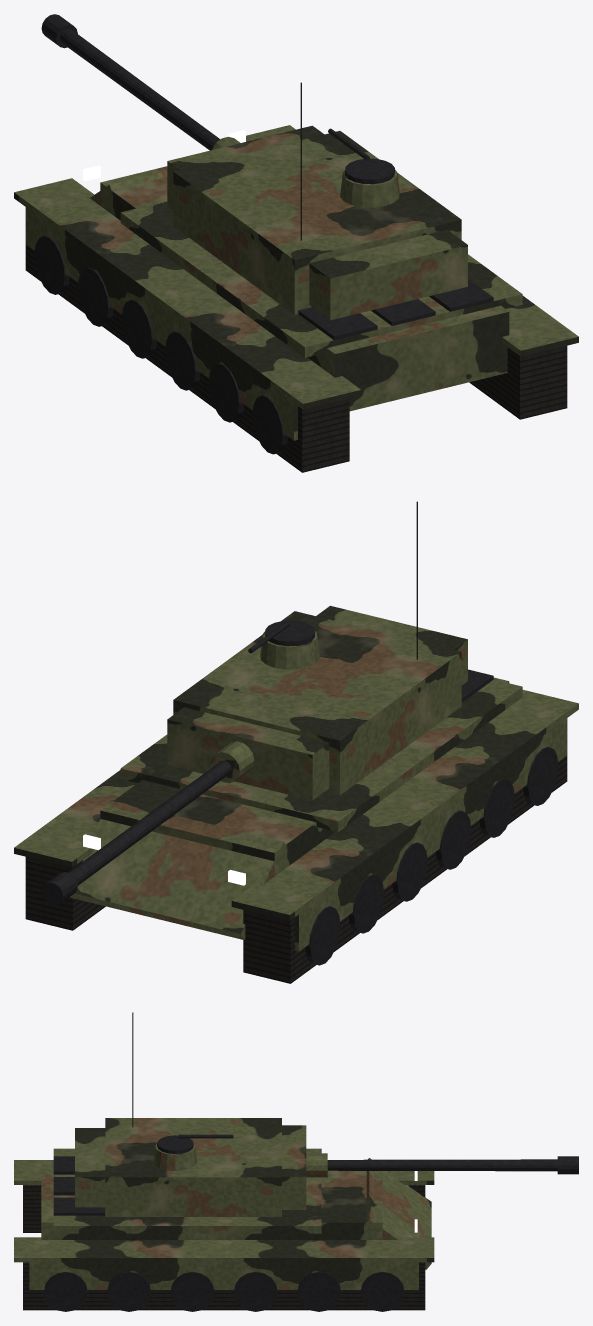
File: tank.glb
3 renders of one model, top to bottom at view 1: azimuth 30°, elevation 25°; view 2: azimuth 150°, elevation 25°; view 3: azimuth 270°, elevation 25°, orthographic. The views are drawn at different scales.
Visible parts, largest first — view 1: hull, turret; view 2: hull, turret; view 3: hull, turret.
Boxes of the visible parts, left/top/right/bottom form: hull: left=14, top=125, right=578, bottom=472; turret: left=41, top=14, right=467, bottom=320; hull: left=14, top=669, right=578, bottom=983; turret: left=41, top=501, right=467, bottom=905; hull: left=14, top=1148, right=434, bottom=1311; turret: left=75, top=1012, right=578, bottom=1216.
Bounding box in the file's own units: 3.8 × 4.18 × 9.28.
4 materials, 3 textured.
